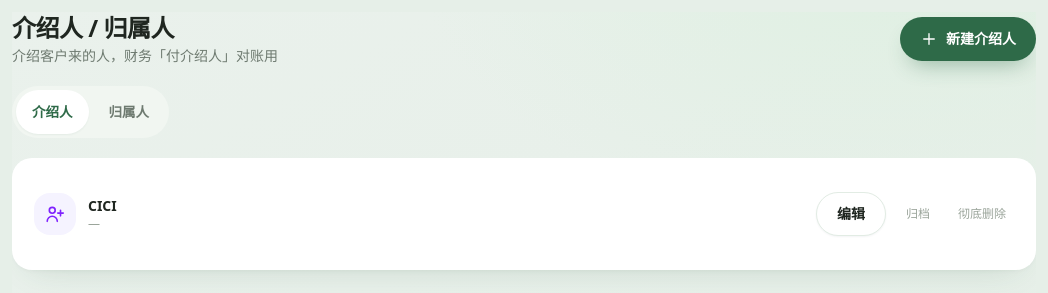
Scenario: ReferrerListPage · 介绍人/归属人开关（一表两用） › 切到「归属人」：只列归属人；新建链接带 kind=owner
This screenshot has width=1048, height=293.
What coordinates should you click on to do the following:
click the button "归属人"
I would click on:
 (129, 112)
Its box is 92,90 -> 165,134.
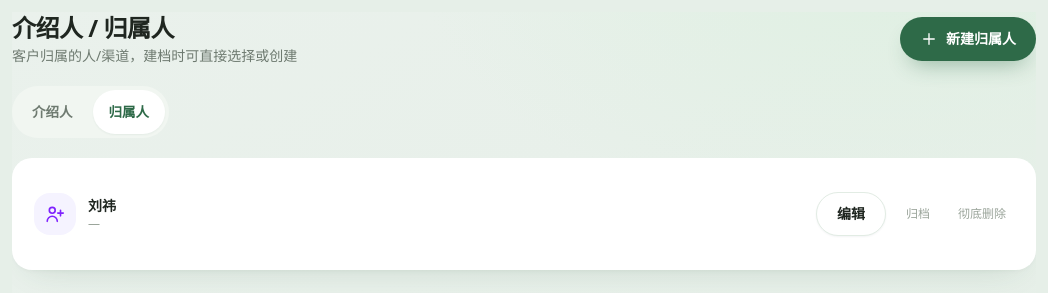
Result: the text "刘祎" is shown at 88,196 -> 116,215
Result: the text "CICI" is gone
